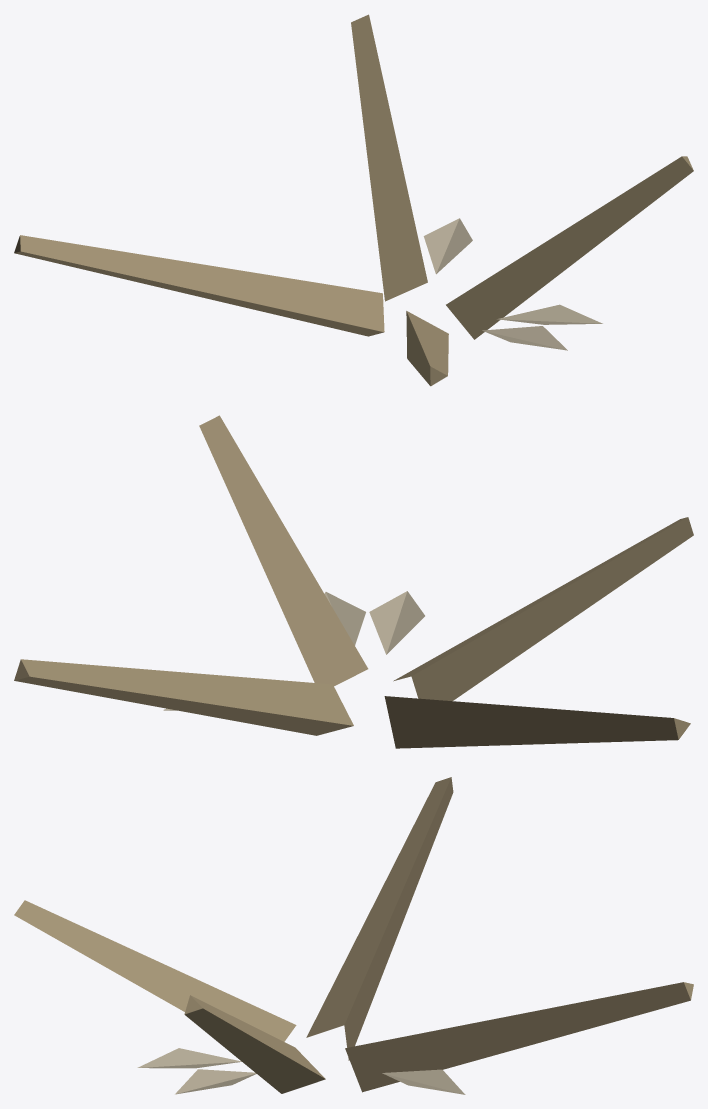
The model's file is guan.huanglu@withered__autumn.glb.
3 views of the same model, one above another, from view 1: azimuth 30°, elevation 25°; view 2: azimuth 150°, elevation 25°; view 3: azimuth 270°, elevation 25° (orthographic). The views are drawn at different scales.
Parts seen in each view (by area): view 1: guan.huanglu@withered__autumn; view 2: guan.huanglu@withered__autumn; view 3: guan.huanglu@withered__autumn.
Boxes of the visible parts, <box> form: guan.huanglu@withered__autumn: <box>14,14,693,386</box>; guan.huanglu@withered__autumn: <box>14,415,693,748</box>; guan.huanglu@withered__autumn: <box>14,777,693,1094</box>.
Size of the model in its own units: 1.34 by 0.4191 by 1.42.
